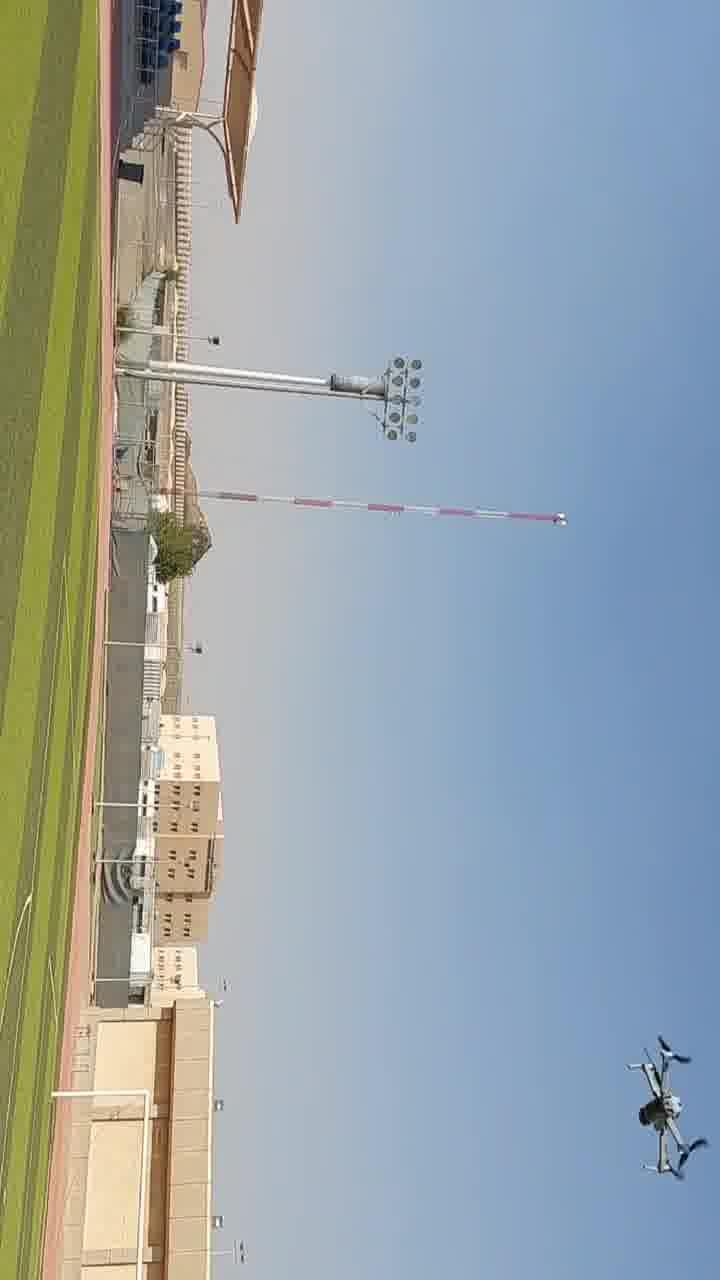drone: (570, 12, 669, 196)
